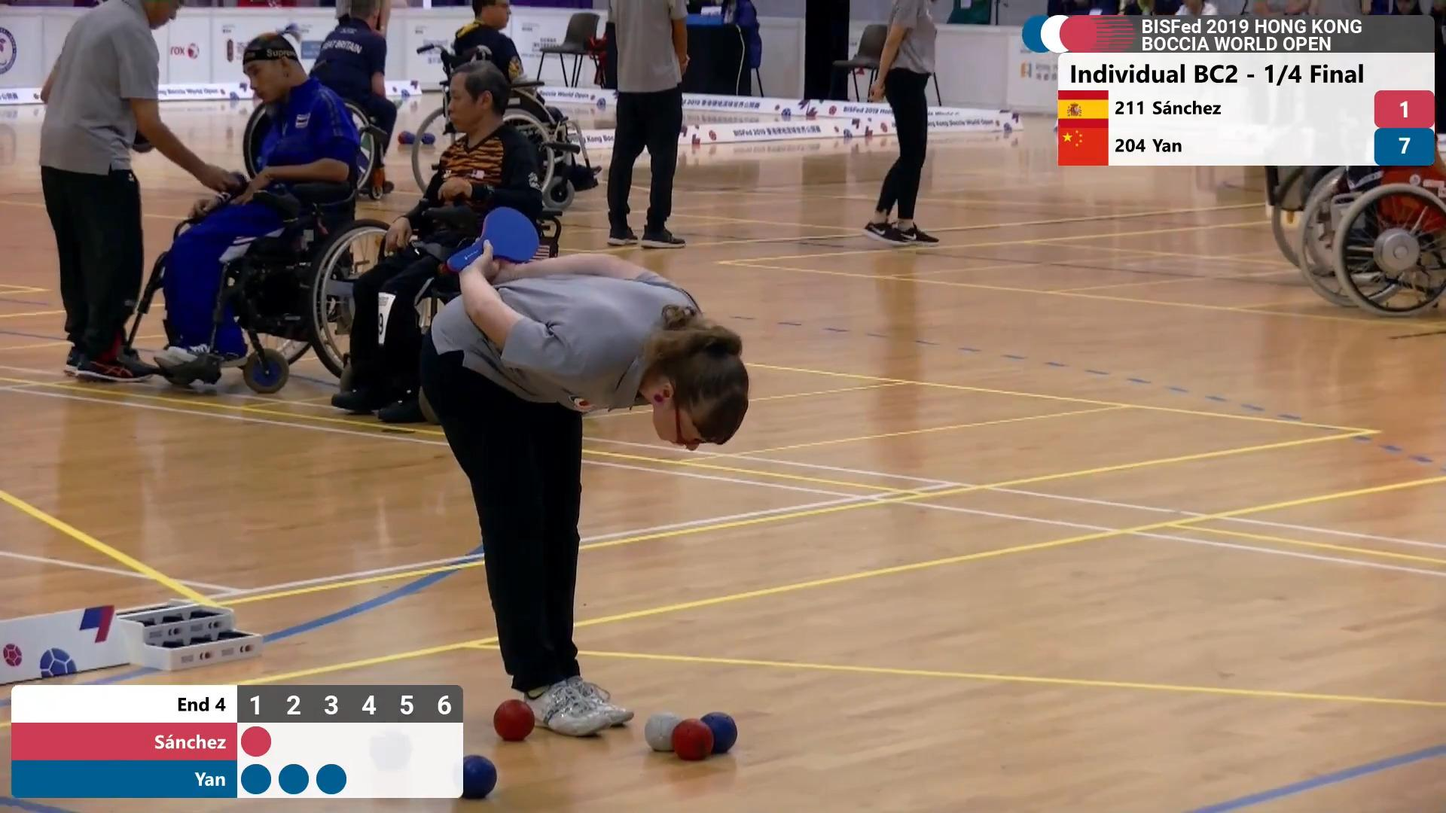blue_ball: (452, 753, 502, 804), (698, 710, 742, 756)
red_ball: (669, 716, 716, 763), (491, 698, 537, 745)
white_ball: (642, 711, 682, 753)
